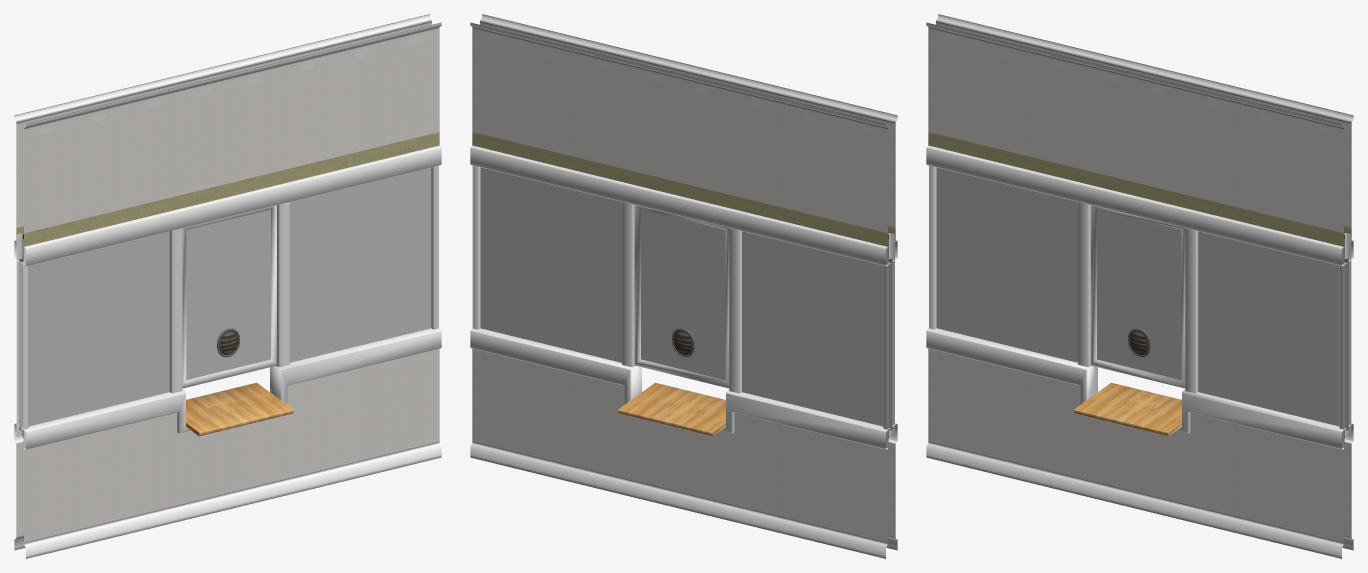
Rendered from waitingroom_receptiondesk_window.dae.
The picture shows the model from 3 angles, left to right: view 1: azimuth 30°, elevation 25°; view 2: azimuth 150°, elevation 25°; view 3: azimuth 330°, elevation 25°; orthographic projection.
Parts seen in each view (by area): view 1: polySurface192, polySurface168, polySurface194; view 2: polySurface192, polySurface168, polySurface194; view 3: polySurface192, polySurface168, polySurface194.
Part boxes in pixels (x1,y1,x2,y2): polySurface192: (14, 14, 441, 558); polySurface168: (19, 167, 431, 429); polySurface194: (186, 209, 270, 379); polySurface192: (470, 14, 897, 558); polySurface168: (480, 167, 892, 428); polySurface194: (641, 209, 725, 379); polySurface192: (926, 14, 1353, 558); polySurface168: (936, 167, 1348, 429); polySurface194: (1097, 209, 1181, 379).
Size of the model in its own units: 4 by 4 by 0.619.
